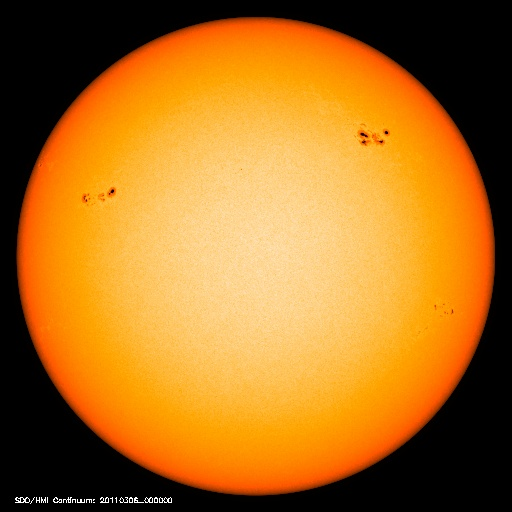sunspot: (412, 299, 460, 341), (348, 115, 397, 153), (76, 179, 120, 211)
